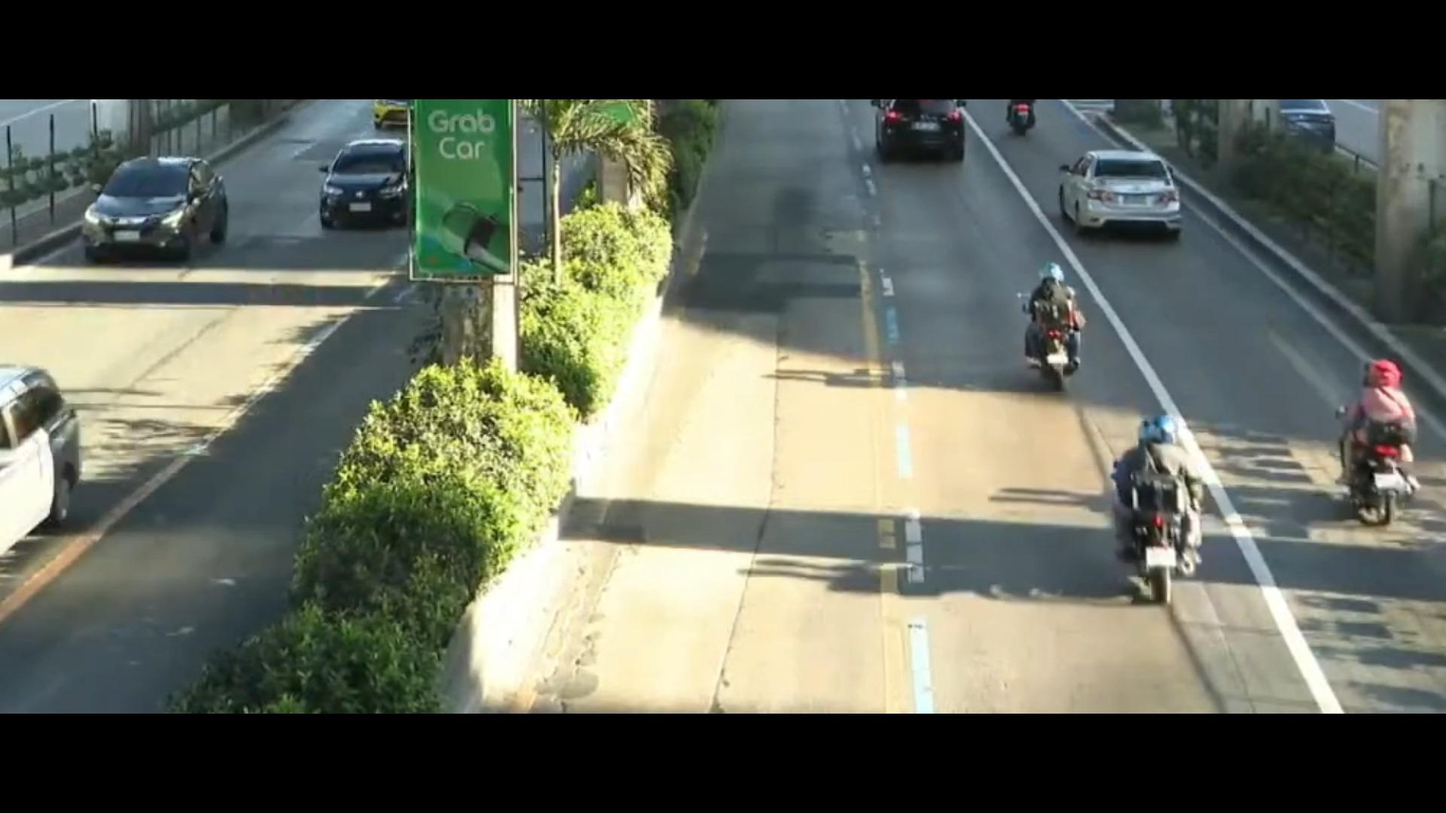Motorcycle: (1316, 339, 1446, 529), (1113, 413, 1239, 607), (1006, 254, 1112, 392)
SUV: (0, 347, 108, 568), (841, 96, 976, 169)
Sedan: (51, 149, 260, 262), (1031, 132, 1210, 258), (305, 136, 414, 220)
